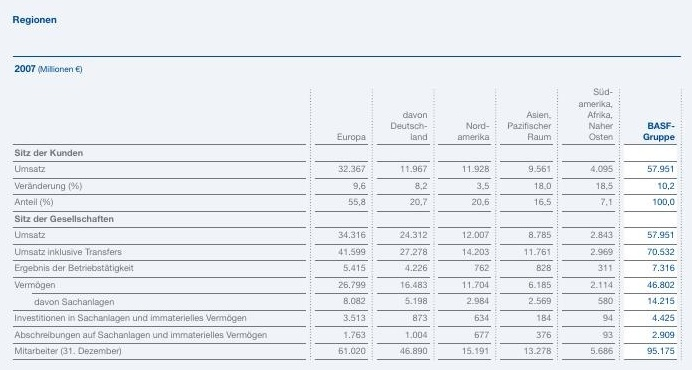table: (0, 0, 692, 370)
